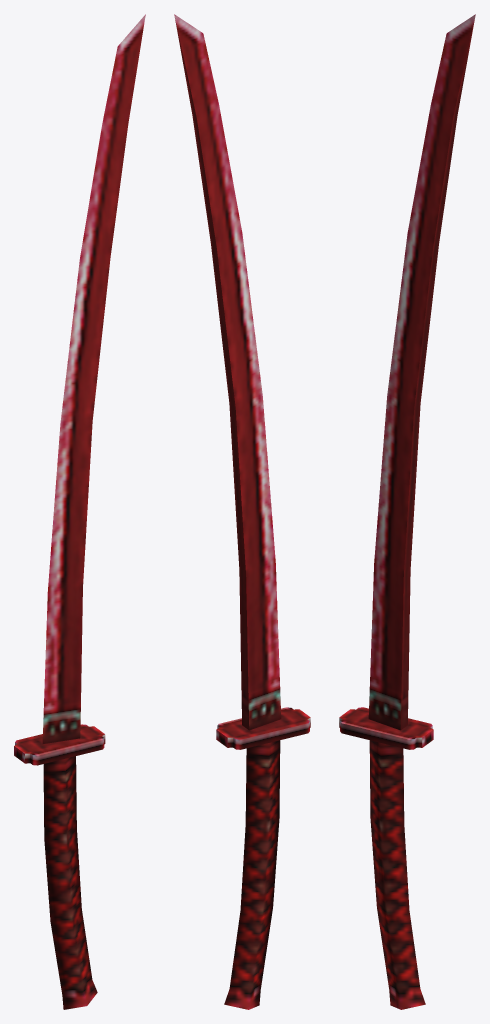
The model's file is Sword16_c.FBX.
The picture shows the model from 3 angles, left to right: view 1: azimuth 30°, elevation 25°; view 2: azimuth 210°, elevation 25°; view 3: azimuth 330°, elevation 25°; orthographic projection. The views are drawn at different scales.
Visible parts, largest first — view 1: Sword16_c; view 2: Sword16_c; view 3: Sword16_c.
Boxes of the visible parts, x1,y1,x2,y2 form: Sword16_c: [14, 14, 145, 1009]; Sword16_c: [174, 14, 310, 1009]; Sword16_c: [339, 14, 475, 1009].
Size of the model in its own units: 14.61 by 108 by 4.21.
